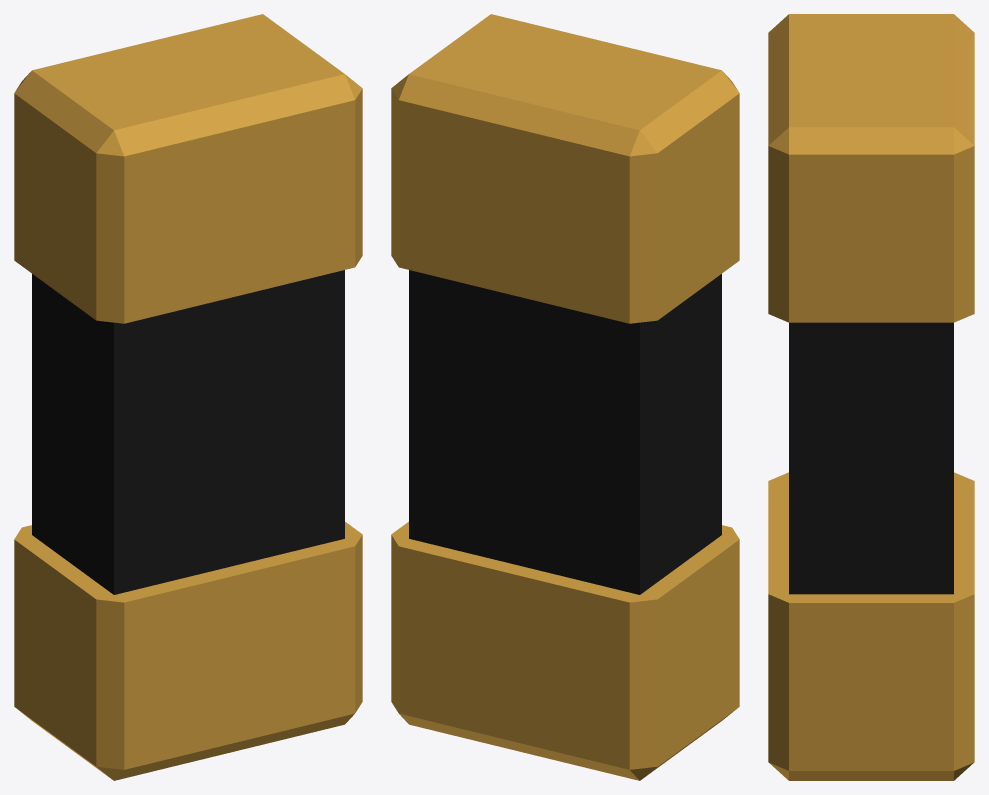
The model's file is TutorialRemote.fbx.
3 renders of one model, left to right at view 1: azimuth 30°, elevation 25°; view 2: azimuth 150°, elevation 25°; view 3: azimuth 270°, elevation 25°, orthographic.
Parts seen in each view (by area): view 1: TutorialRemote; view 2: TutorialRemote; view 3: TutorialRemote.
Part boxes in pixels (bbox=[...]): TutorialRemote: bbox=[14, 14, 362, 780]; TutorialRemote: bbox=[391, 14, 739, 780]; TutorialRemote: bbox=[768, 14, 974, 780].
Bounding box in the file's own units: 0.3 × 0.7 × 0.2.
